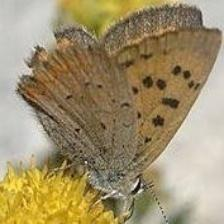butterfly: (19, 4, 222, 214)
